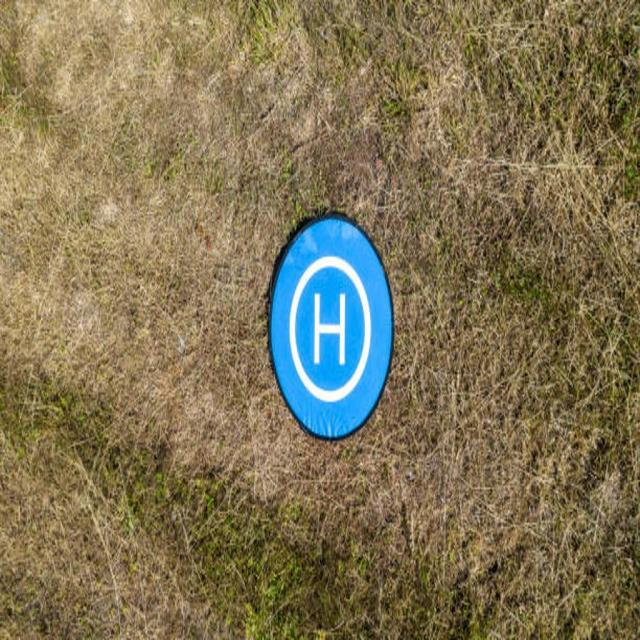helipad: (287, 254, 371, 402)
